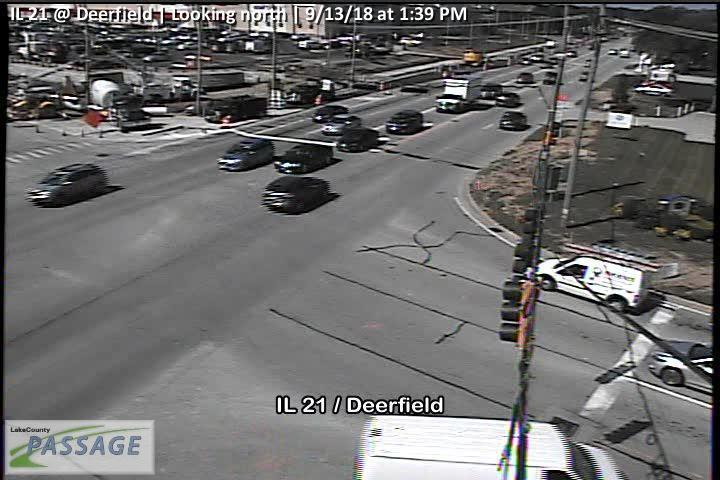SUV: (349, 413, 628, 480), (528, 259, 648, 312), (25, 163, 105, 204)
Sedan: (261, 173, 330, 215), (216, 137, 273, 171), (278, 143, 332, 175), (336, 128, 379, 155), (319, 113, 360, 135), (389, 111, 424, 136), (312, 104, 347, 121), (499, 112, 526, 130), (494, 92, 521, 107), (516, 71, 533, 83)
Truck: (435, 74, 482, 109)
